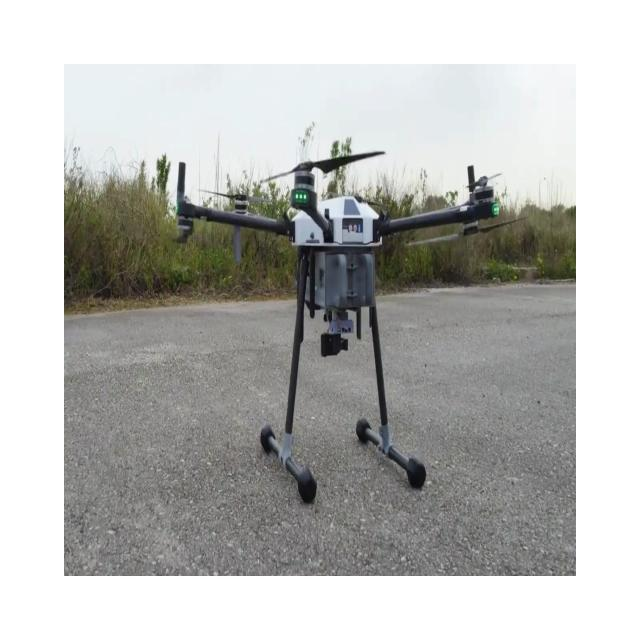drone: (173, 148, 527, 503)
